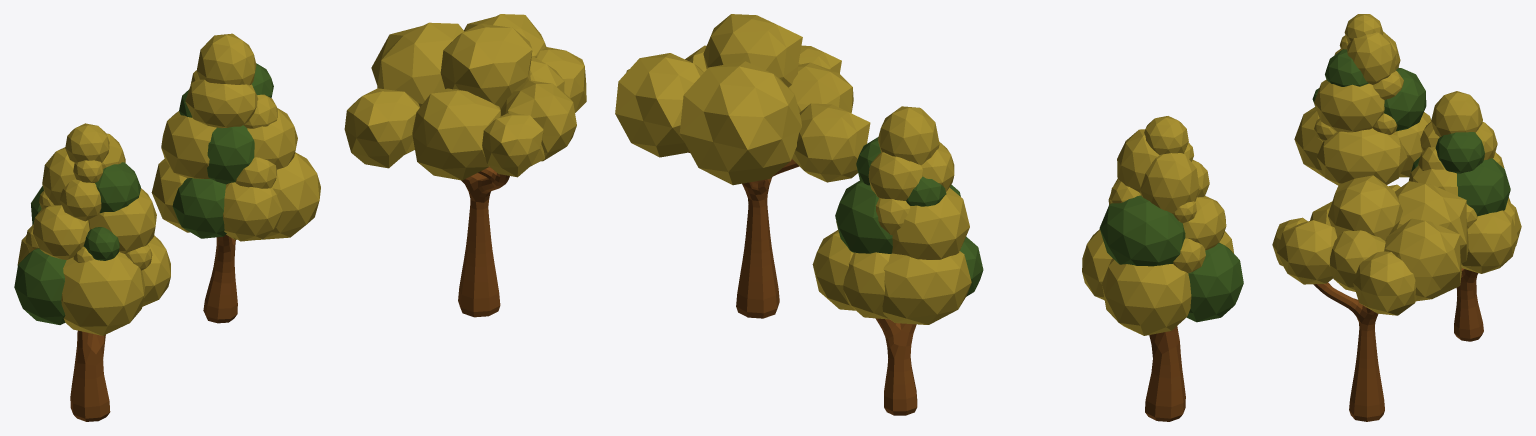
The model's file is fase1-arvores.fbx.
The picture shows the model from 3 angles, left to right: view 1: azimuth 30°, elevation 25°; view 2: azimuth 150°, elevation 25°; view 3: azimuth 270°, elevation 25°; orthographic projection. The views are drawn at different scales.
Parts seen in each view (by area): view 1: Esfera icosaédrica.010, Esfera icosaédrica.005, Plano.003; view 2: Esfera icosaédrica.010, Esfera icosaédrica.005, Plano.003; view 3: Esfera icosaédrica.010, Plano.003, Esfera icosaédrica.005.
Boxes of the visible parts, left/top/right/bottom form: Esfera icosaédrica.010: left=344, top=14, right=586, bottom=317; Esfera icosaédrica.005: left=151, top=33, right=320, bottom=323; Plano.003: left=14, top=123, right=170, bottom=421; Esfera icosaédrica.010: left=615, top=14, right=870, bottom=318; Esfera icosaédrica.005: left=812, top=106, right=983, bottom=415; Plano.003: left=1082, top=116, right=1243, bottom=421; Esfera icosaédrica.010: left=1272, top=175, right=1468, bottom=421; Plano.003: left=1294, top=14, right=1431, bottom=185; Esfera icosaédrica.005: left=1409, top=91, right=1521, bottom=341.
Size of the model in its own units: 1742 by 847 by 771.
